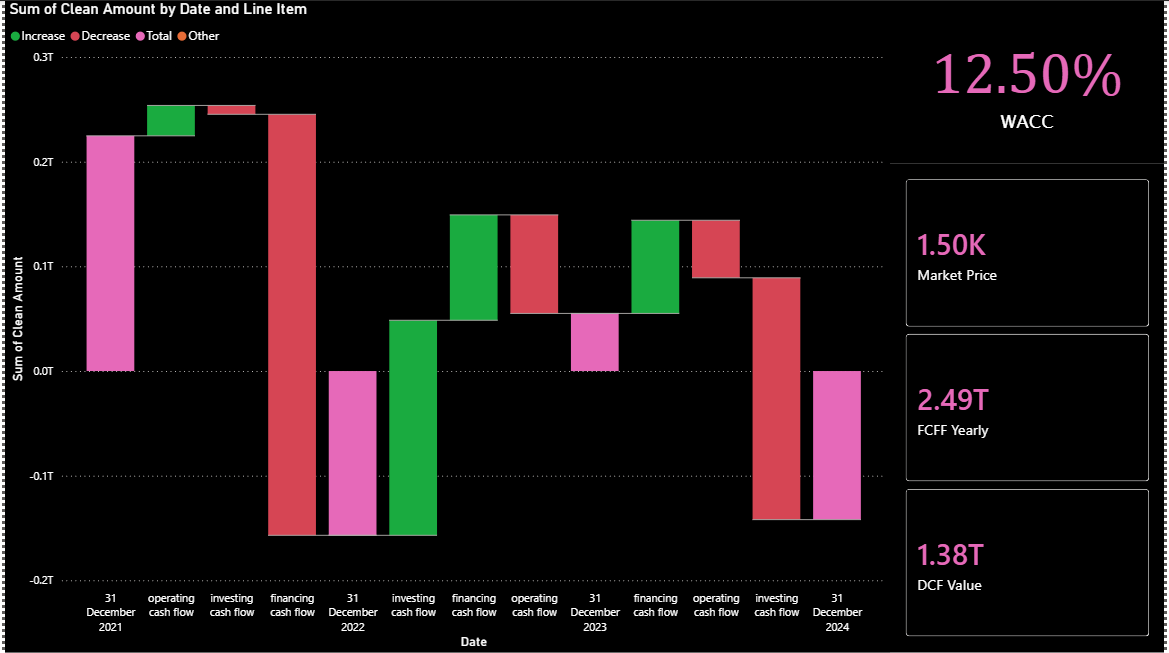

What the dashboard file says about the page in this screenshot:
{"tool":"powerbi","page":{"name":"FCFF","canvas":[1280,720],"ordinal":0},"visuals":[{"type":"card","fields":{"Values":["Assumptions.WACC"]},"box":[977.3,0,303.1,180.6],"z":0},{"type":"waterfallChart","fields":{"Y":["Sum(JPMC.Clean Amount)"],"Category":["JPMC.Date"],"Breakdown":["JPMC.Line Item"]},"box":[0,0,977.3,720.6],"z":1000},{"type":"cardVisual","fields":{"Data":["Assumptions.Market Price","JPMC.FCFF Yearly","JPMC.DCF Value"]},"box":[977.3,180.6,303.1,540],"z":2000}]}

Visuals, with their boxes in screenshot pixels (x1, y1, x2, y2), scaled from the page's 1280x720 canvas onto the 1169x653 screenshot:
card - Assumptions.WACC: bbox=[893, 0, 1168, 164]
waterfallChart - Sum(JPMC.Clean Amount) x JPMC.Date: bbox=[0, 0, 893, 652]
cardVisual - Assumptions.Market Price x JPMC.FCFF Yearly: bbox=[893, 164, 1168, 652]
